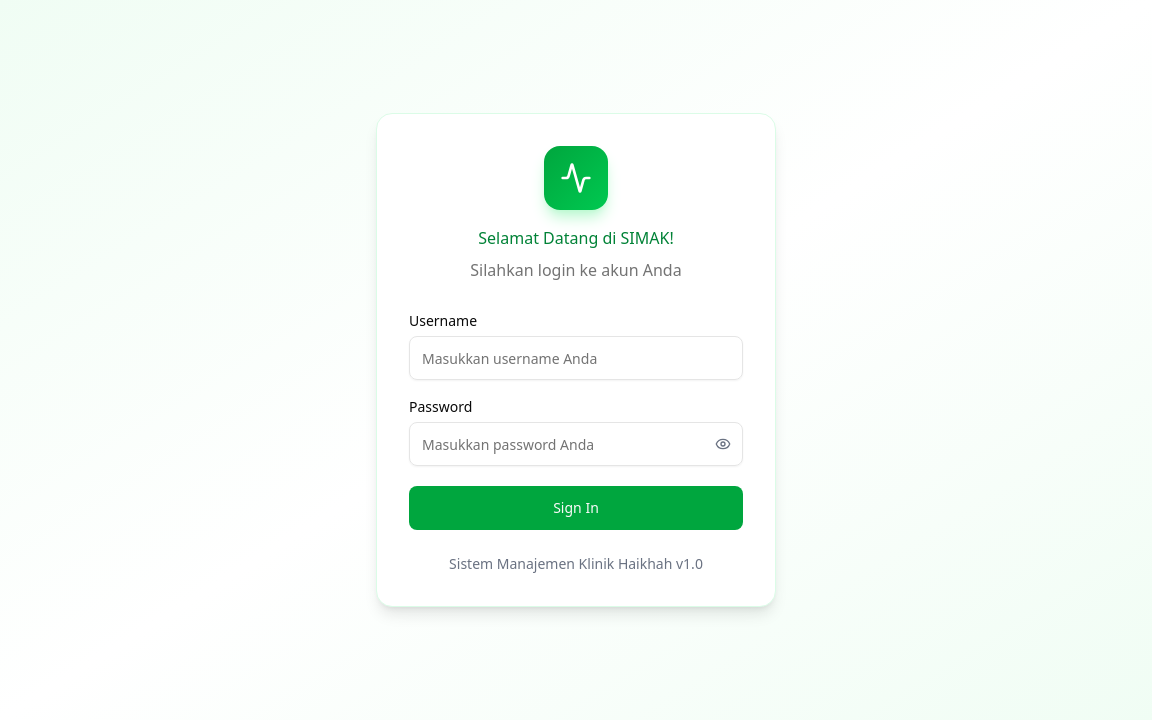
Scenario: Login › Tes login sebagai dokter
In the field with id "email": (576, 358) [409, 336, 743, 380], type "dokter"
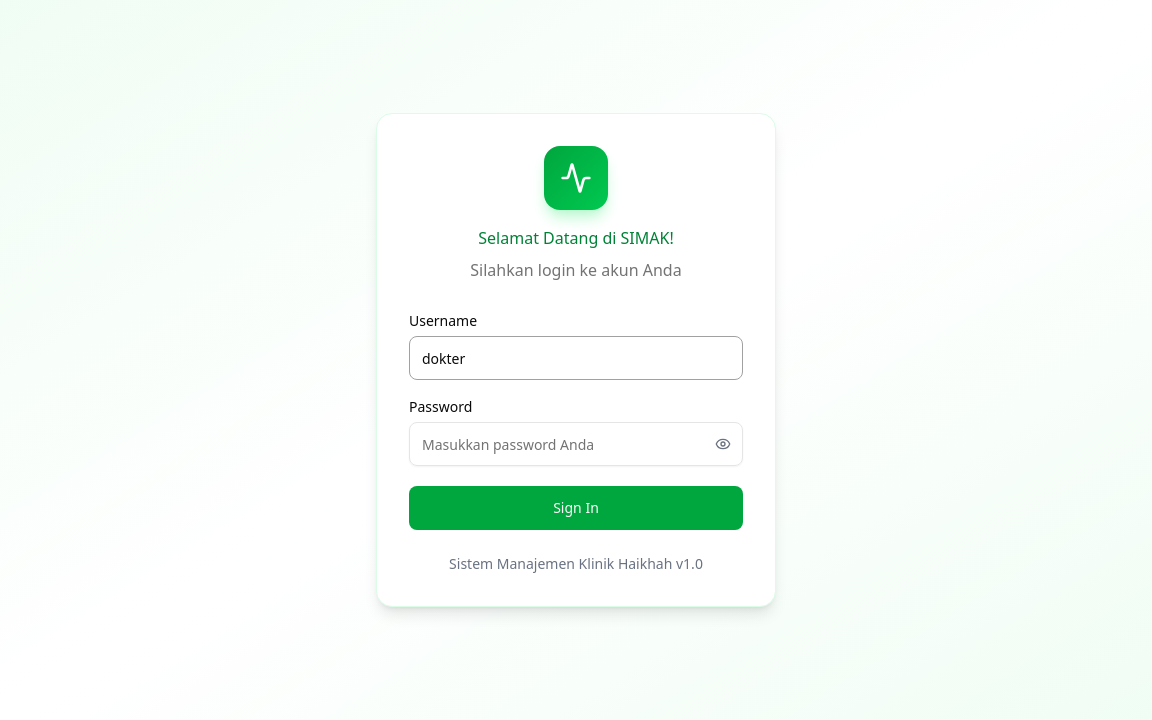
In the password field labelled "Password": (576, 444) [409, 422, 743, 466], type "password"
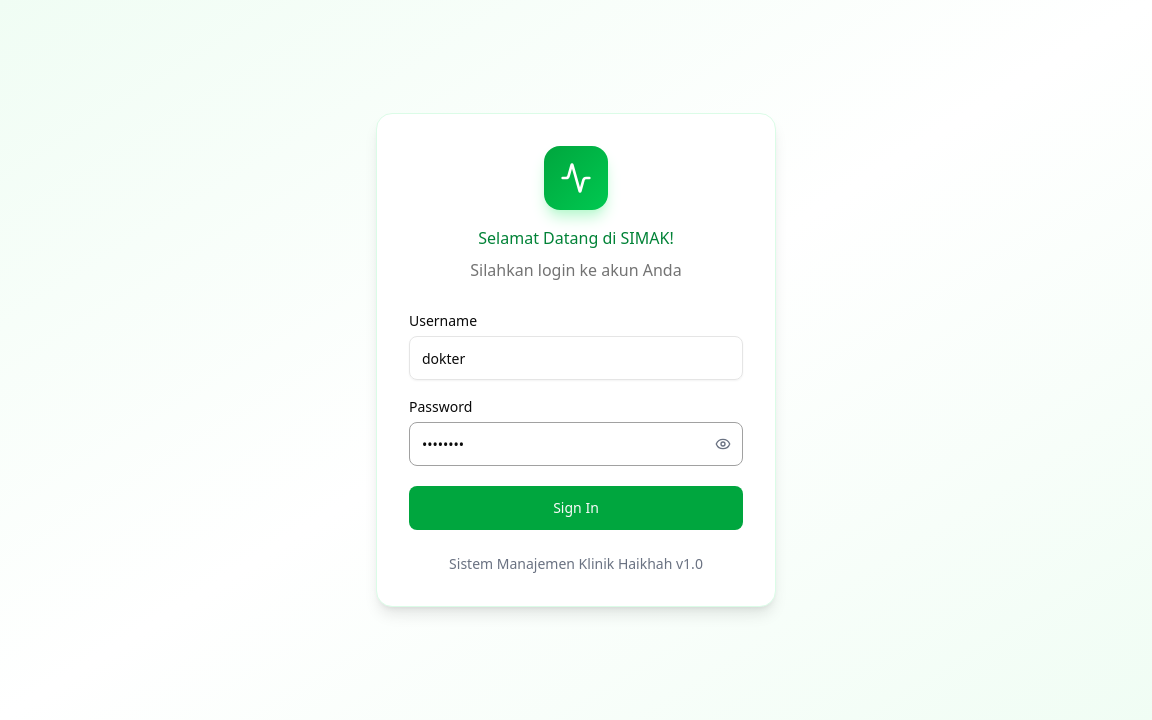
Click the button "Sign In": (576, 508) [409, 486, 743, 530]
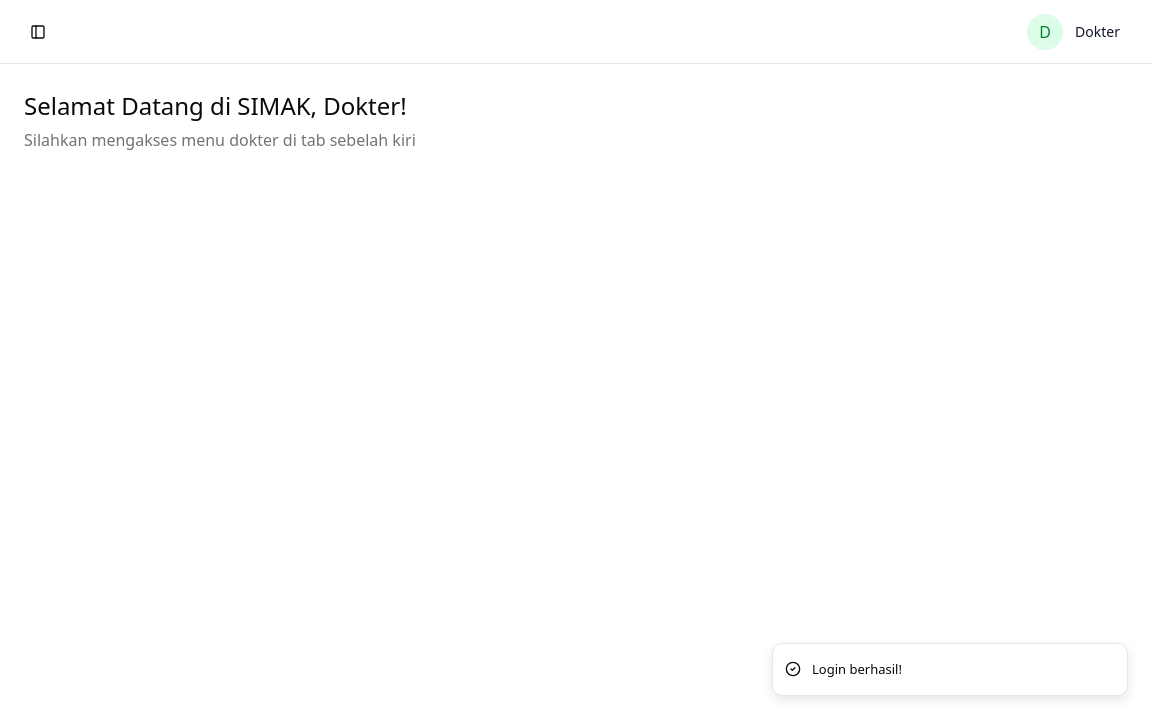
Expected: the button "D Dokter" is shown, [1019, 8, 1128, 56]
